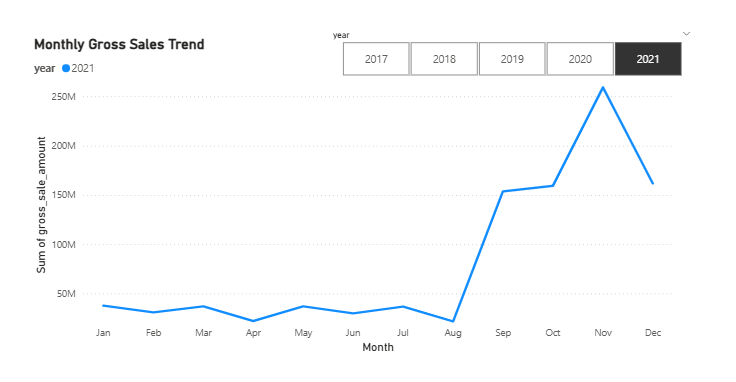

This screenshot's page, from the dashboard's own definition file:
{"tool":"powerbi","page":{"name":"Page 1","canvas":[1280,720],"ordinal":0},"visuals":[{"type":"lineChart","title":"Monthly Gross Sales Trend","fields":{"Category":["query7.Month name"],"Series":["query7.year"],"Y":["Sum(query7.gross_sale_amount)"]},"box":[204.1,132.3,814.5,404.4],"z":0},{"type":"slicer","fields":{"Values":["query7.year"]},"box":[572.6,119.1,476.2,69.9],"z":1}]}

Visuals, with their boxes on the page's 1280x720 design canvas (x1, y1, x2, y2). These are canvas units, not pixel positions in the 736x382 screenshot, which may show the page scaled, cropped or inside an application window:
"Monthly Gross Sales Trend" lineChart: x1=204 y1=132 x2=1019 y2=537
slicer - query7.year: x1=573 y1=119 x2=1049 y2=189
